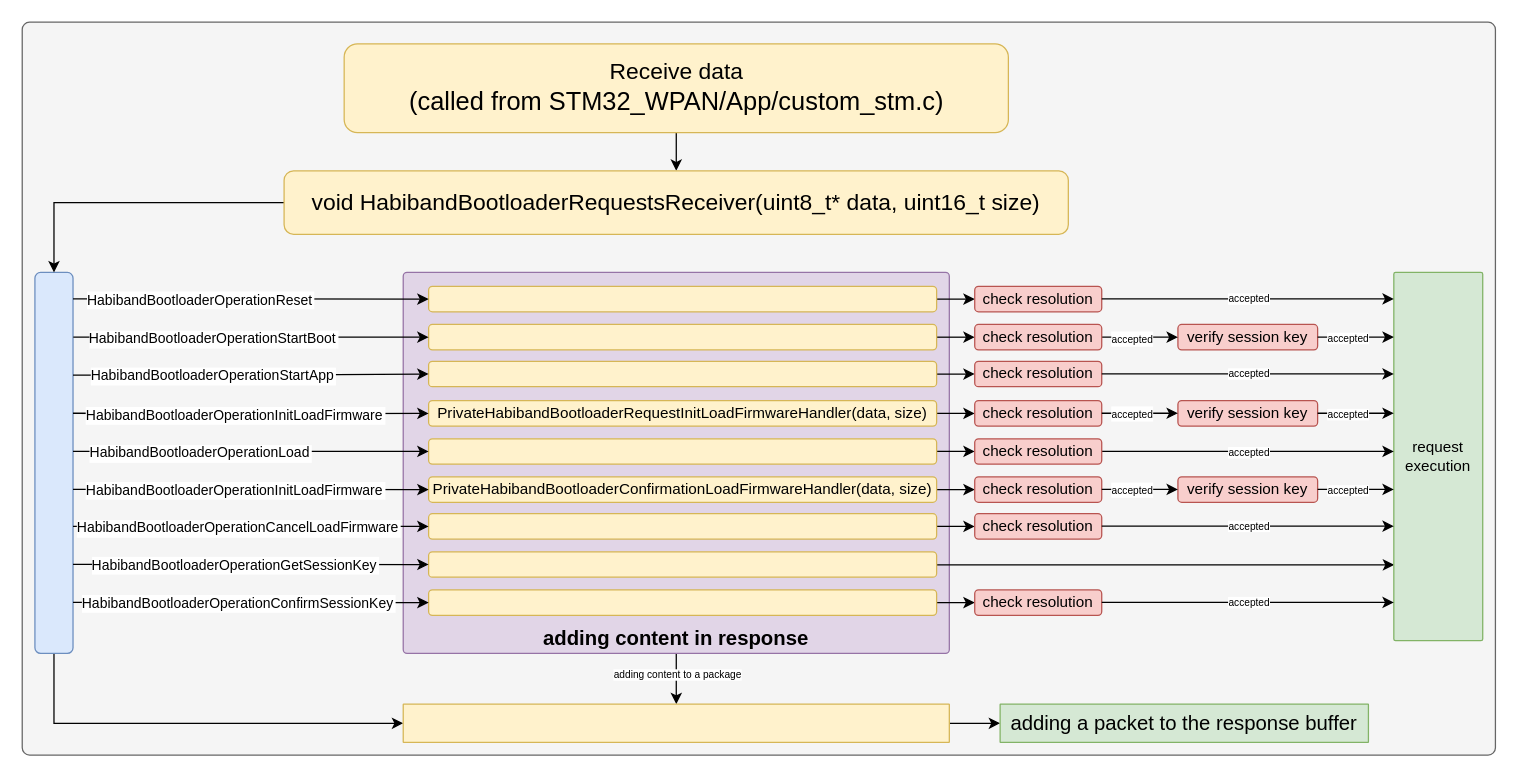
Some shapes in this 1518 by 777 pixel diagram are drawn without their labels. Here are the shapes that lost their labels. From the top down, the centre of each, then its label:
(x=682, y=298): PrivateHabibandBootloaderRequestResetHandler()
(x=682, y=336): PrivateHabibandBootloaderRequestStartBootHandler(data, size)
(x=682, y=373): PrivateHabibandBootloaderStartAppHandler()
(x=53, y=462): switch (header->Operation)
(x=682, y=451): PrivateHabibandBootloaderRequestLoadHandler(data, size)
(x=682, y=525): HabibandBootloaderOperationCancelLoadFirmware()
(x=682, y=564): PrivateHabibandBootloaderGetSessionKeyHandler()
(x=682, y=602): PrivateHabibandBootloaderConfirmSessionKeyHandler(data, size)
(x=675, y=722): preparing a request response package
